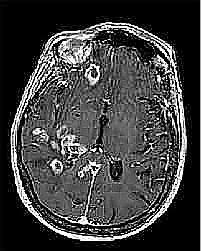Tumor: (56, 127, 89, 172), (55, 40, 92, 66), (81, 62, 107, 86), (24, 126, 53, 145), (49, 154, 66, 179)
